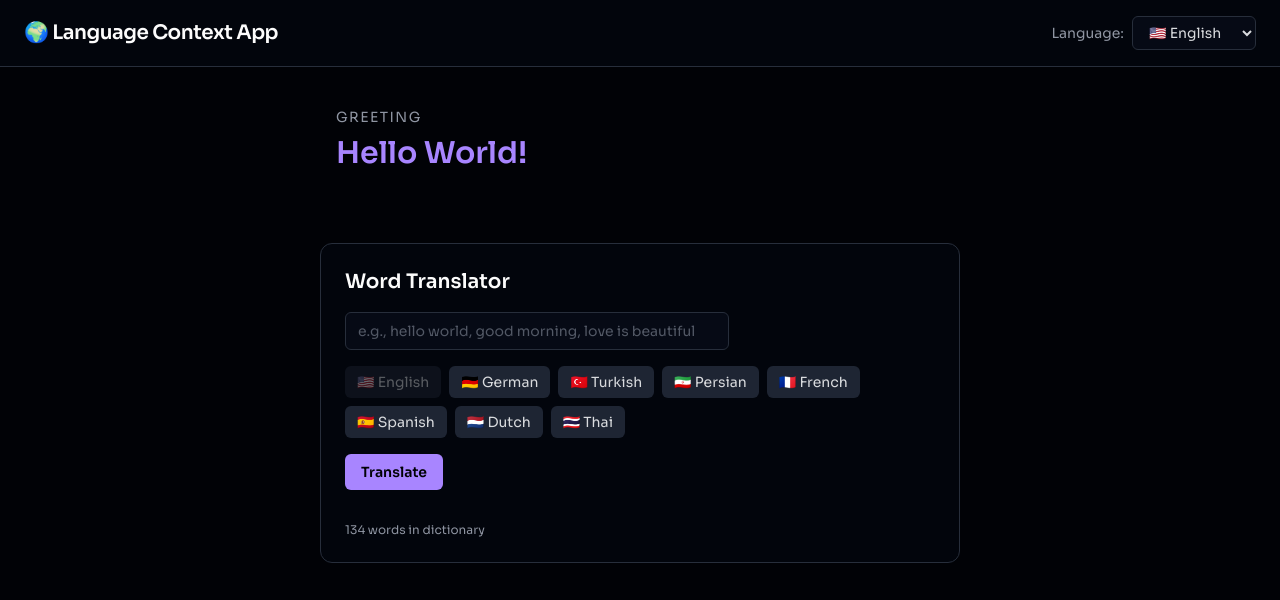
Test case: translates multi-word phrases correctly
# Switch to German
Click the button "🇩🇪 German".
click(500, 382)  # box [449, 366, 550, 398]
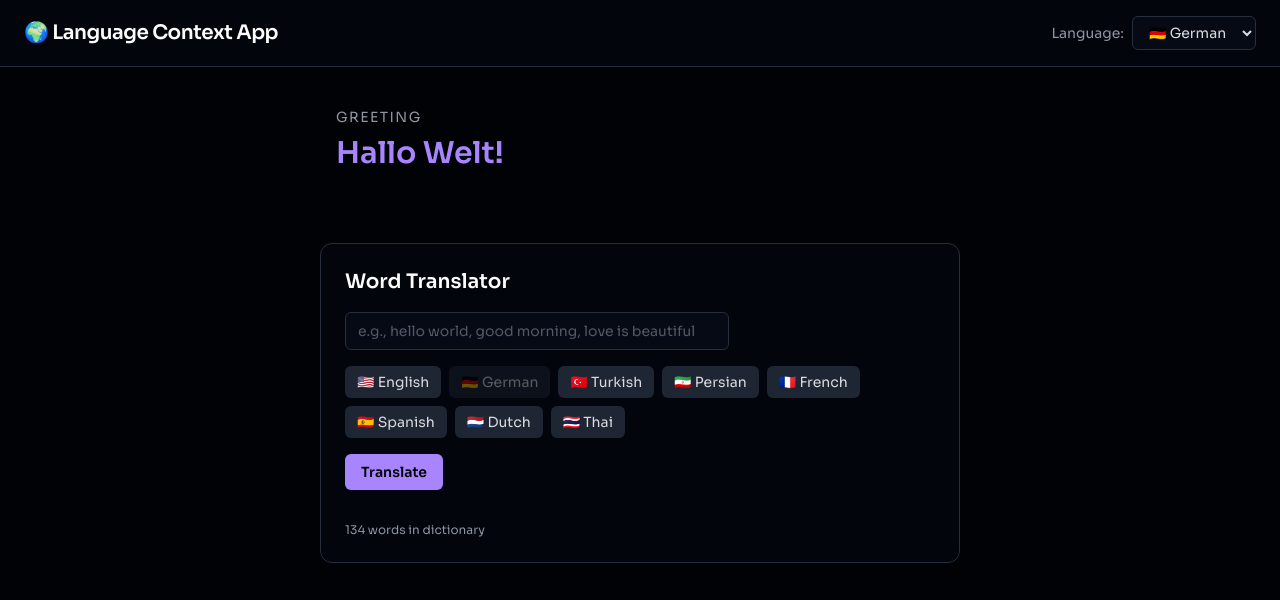
# Type a phrase
Type "good morning" into the field with placeholder "e.g., hello world, good morning, love is beautiful".
click(537, 331); type("good morning")  # box [345, 312, 729, 350]
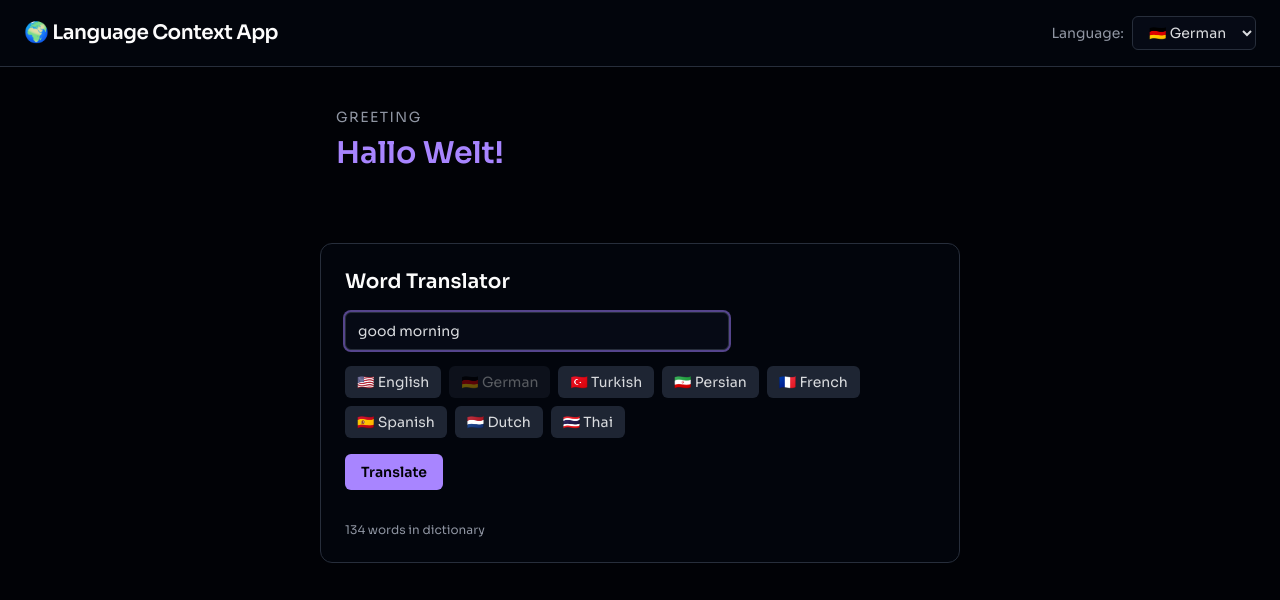
Click the button "Translate".
click(394, 472)  # box [345, 454, 443, 490]
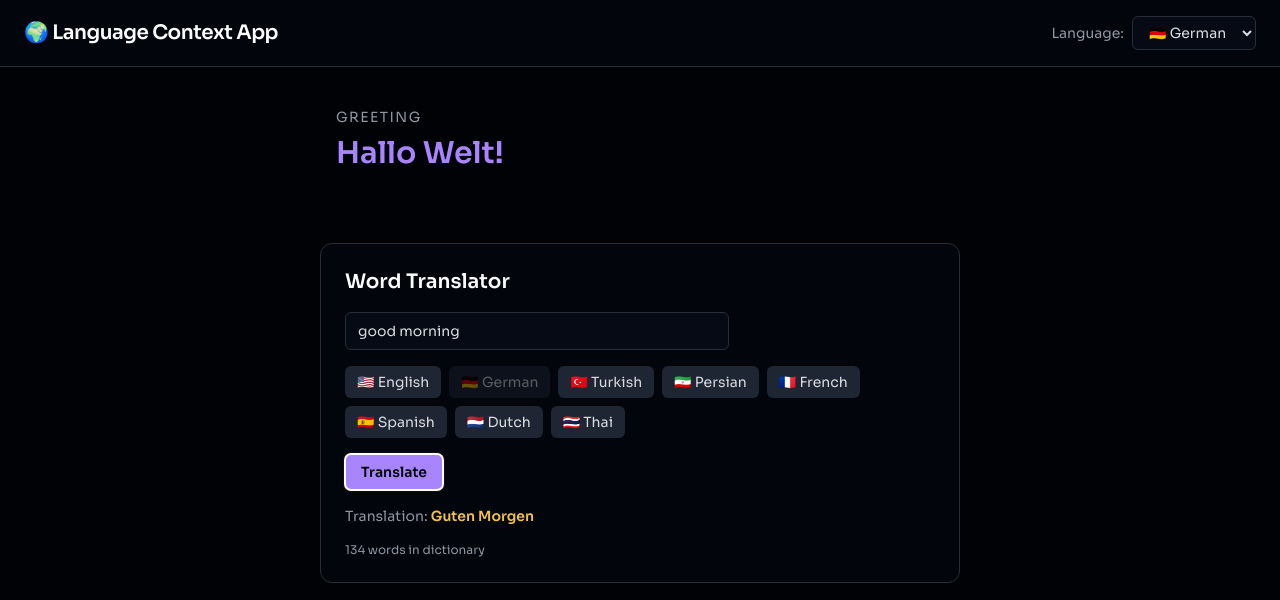
Expected: the text "Guten Morgen" is shown, [431, 507, 534, 525]
